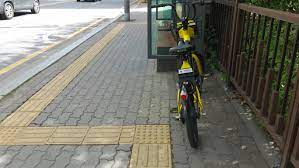guide_blocks: (1, 125, 169, 143), (3, 98, 51, 126), (131, 143, 172, 168), (32, 75, 73, 98), (63, 59, 92, 74), (100, 26, 121, 44), (83, 45, 104, 58), (120, 21, 146, 25)
